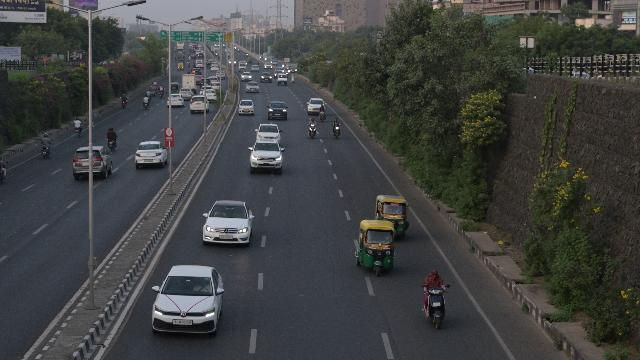Without Helmet: (430, 270, 440, 280)
